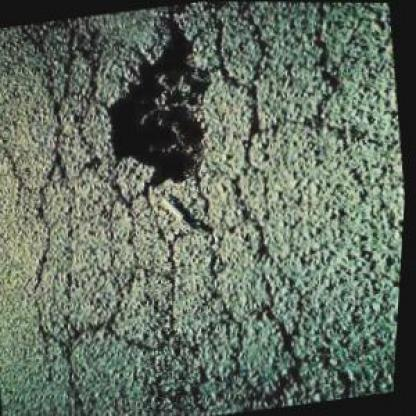pothole: (85, 8, 235, 194)
